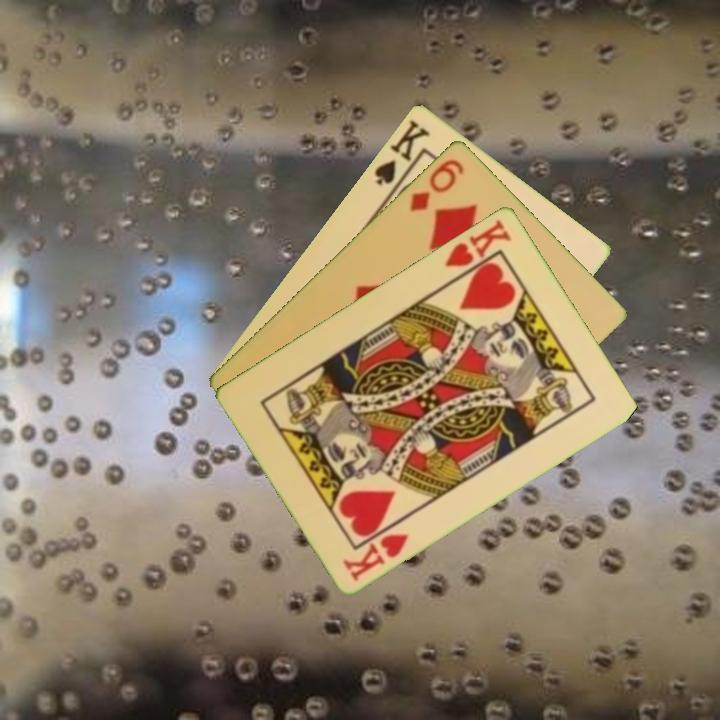6d: (406, 154, 467, 214)
Kh: (441, 215, 515, 284), (339, 529, 412, 584)
Ks: (370, 115, 433, 188)
